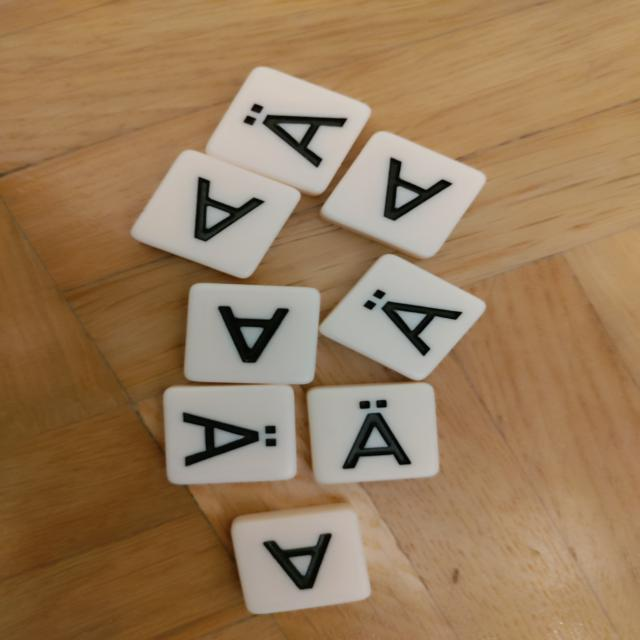a: (127, 146, 302, 281), (318, 129, 490, 261), (227, 503, 374, 615), (182, 283, 320, 384)
a_dot: (204, 63, 376, 200), (315, 252, 491, 384), (308, 382, 442, 485), (164, 385, 297, 484)
